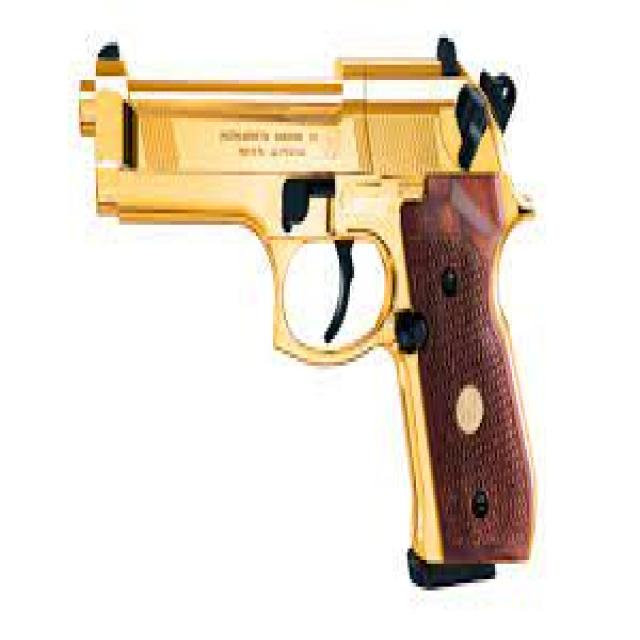Gun: (72, 27, 564, 599)
